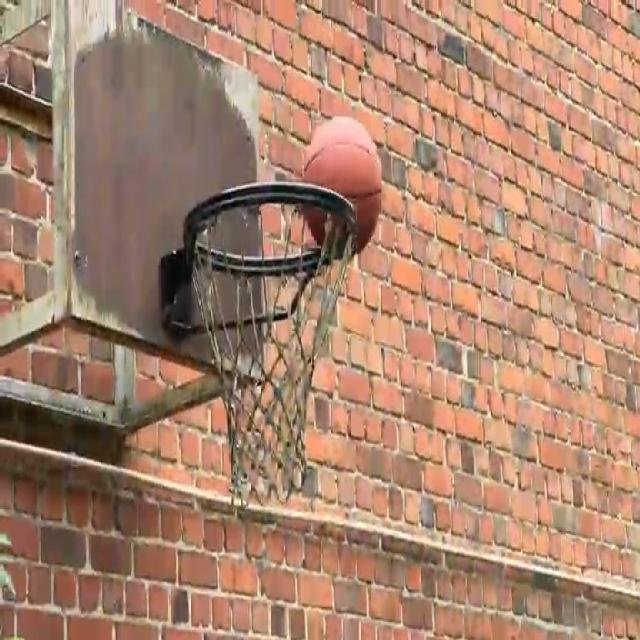rebound_hit: (302, 117, 381, 253)
